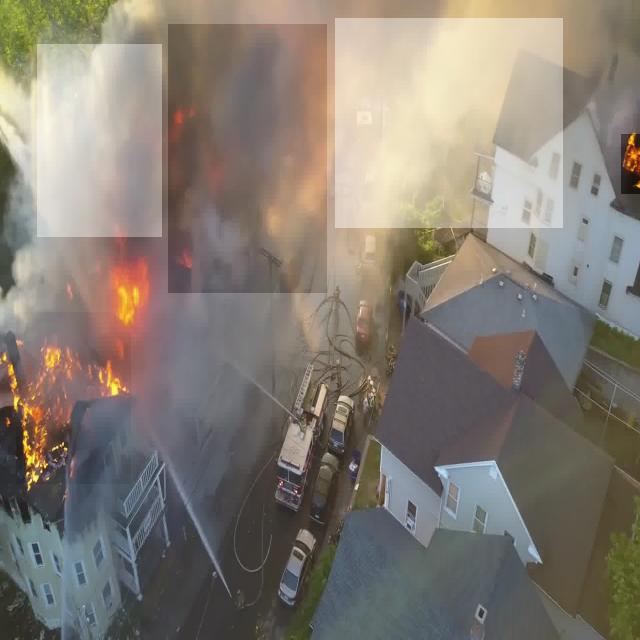Fire: (16, 312, 131, 484), (111, 256, 138, 333), (621, 134, 640, 194)
Smoke: (336, 18, 564, 228), (168, 24, 327, 293), (37, 44, 162, 237)
